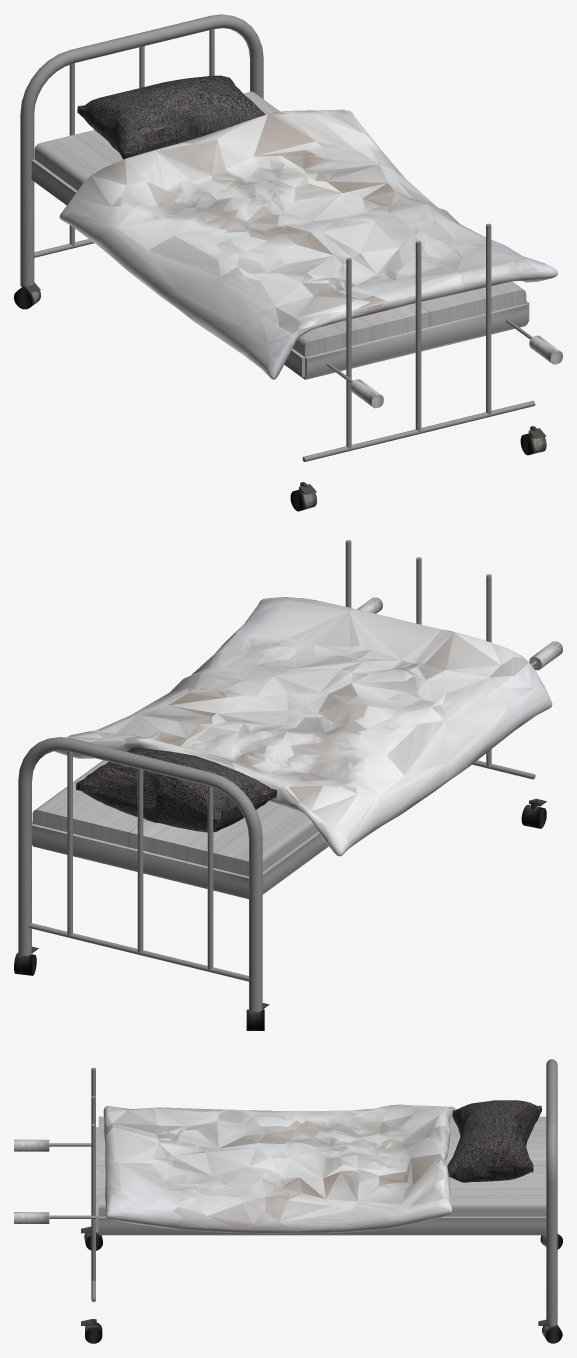
The model's file is Hospital Bed (Lower Poly).FBX.
3 renders of one model, top to bottom at view 1: azimuth 30°, elevation 25°; view 2: azimuth 150°, elevation 25°; view 3: azimuth 270°, elevation 25°, orthographic. The views are drawn at different scales.
Parts seen in each view (by area): view 1: Plane001, Box001, Box004, Line008, Line007, Line003, Line005, Line006, Line004; view 2: Plane001, Box001, Box004, Line008, Line007, Line009, Line011, Line010, Line012; view 3: Plane001, Box001, Box004, Line007, Line006, Box003, Box002, Line008.
Boxes of the visible parts, x1,y1,x2,y2 form: Plane001: (59, 109, 557, 379); Box001: (31, 91, 529, 379); Box004: (77, 75, 265, 159); Line008: (20, 33, 145, 287); Line007: (141, 14, 263, 98); Line003: (302, 400, 535, 461); Line005: (415, 241, 421, 432); Line006: (486, 223, 491, 414); Line004: (346, 258, 351, 449); Plane001: (55, 597, 552, 856); Box001: (32, 760, 328, 898); Box004: (76, 747, 276, 832); Line008: (137, 755, 262, 1012); Line007: (18, 737, 141, 955); Line009: (29, 923, 248, 981); Line011: (137, 769, 143, 953); Line010: (207, 786, 213, 970); Line012: (67, 751, 72, 935); Plane001: (103, 1104, 455, 1233); Box001: (96, 1116, 546, 1235); Box004: (447, 1100, 541, 1182); Line007: (546, 1092, 557, 1326); Line006: (91, 1124, 95, 1281); Box003: (14, 1139, 49, 1151); Box002: (14, 1212, 49, 1223); Line008: (546, 1059, 557, 1096).
Bounding box in the file's own units: 47.31 × 38.06 × 93.51.
8 materials, 7 textured.
